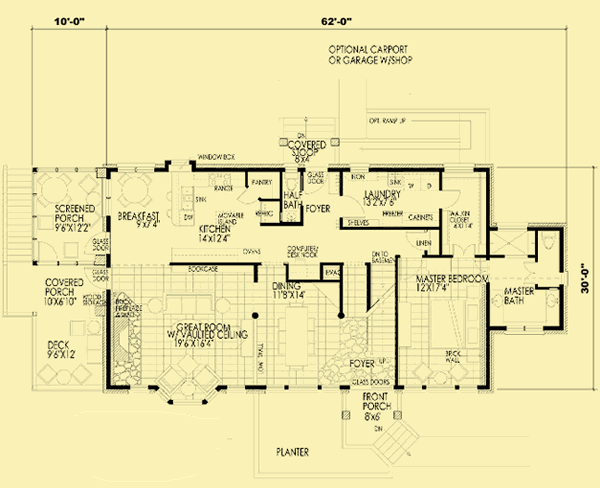bedroom has a double bed and bedside stands: (396, 254, 490, 395)
hall has a dining table: (253, 264, 346, 390)
kitchen has a kitchen bar, round dining table and cooking range: (109, 162, 253, 264)
livingroom has a large sofa, multiple small sofa and tables: (138, 265, 232, 405)
master bathroom has a large sink, small sinks and shower space: (490, 224, 565, 333)
